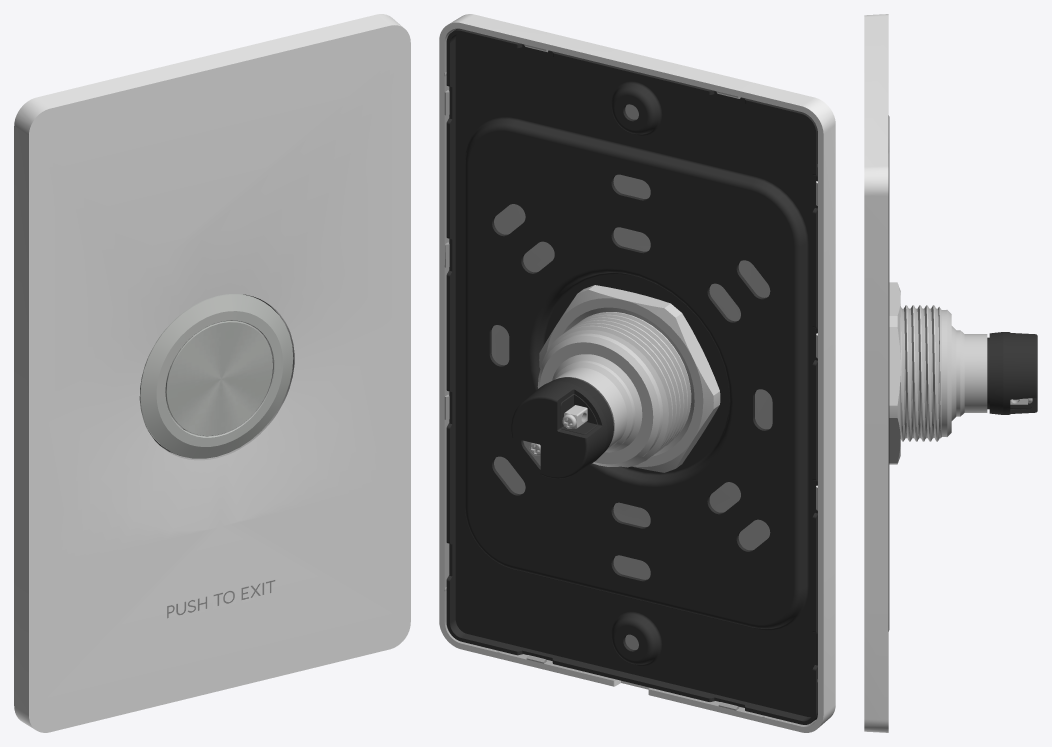
The model's file is ua-button.glb.
3 views of the same model, side by side, from view 1: azimuth 30°, elevation 25°; view 2: azimuth 150°, elevation 25°; view 3: azimuth 270°, elevation 25° (orthographic). The views are drawn at different scales.
Visible parts, largest first — view 1: UA_Button; view 2: UA_Button; view 3: UA_Button.
Boxes of the visible parts, x1,y1,x2,y2 form: UA_Button: [14, 14, 410, 732]; UA_Button: [439, 14, 835, 732]; UA_Button: [864, 14, 1037, 732].
Size of the model in its own units: 0.088 by 0.137 by 0.0381.
1 material, 1 textured.
